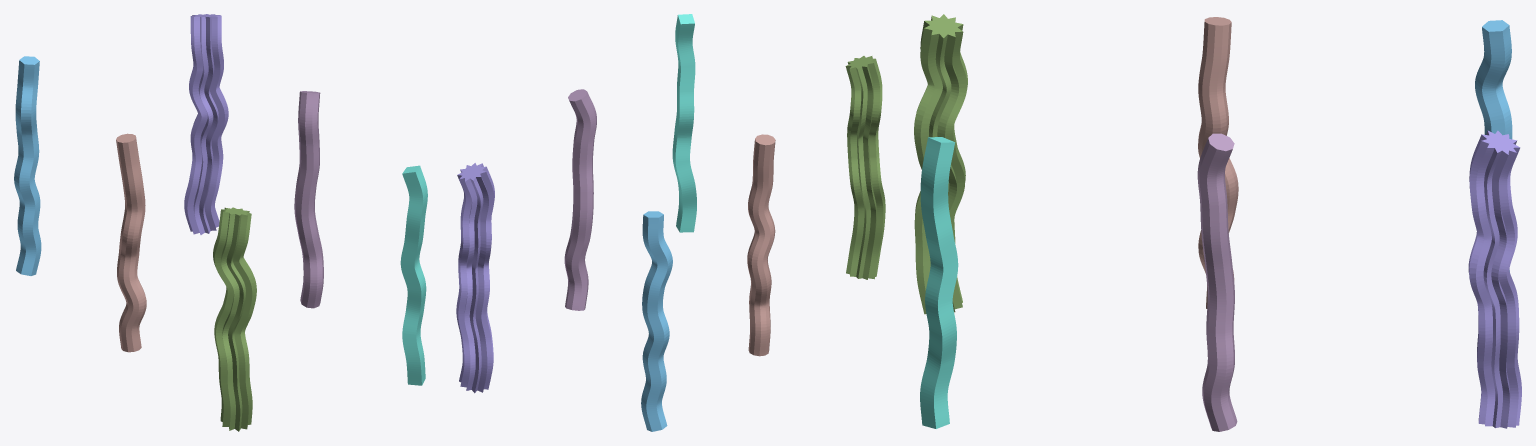
The model's file is phong_txtrd_mats_1_OpenedSplineTest_2023-06-04-21-23-01.gltf.
The picture shows the model from 3 angles, left to right: view 1: azimuth 30°, elevation 25°; view 2: azimuth 150°, elevation 25°; view 3: azimuth 270°, elevation 25°; orthographic projection. The views are drawn at different scales.
Bounding box in the file's own units: 239 × 233 × 439.
